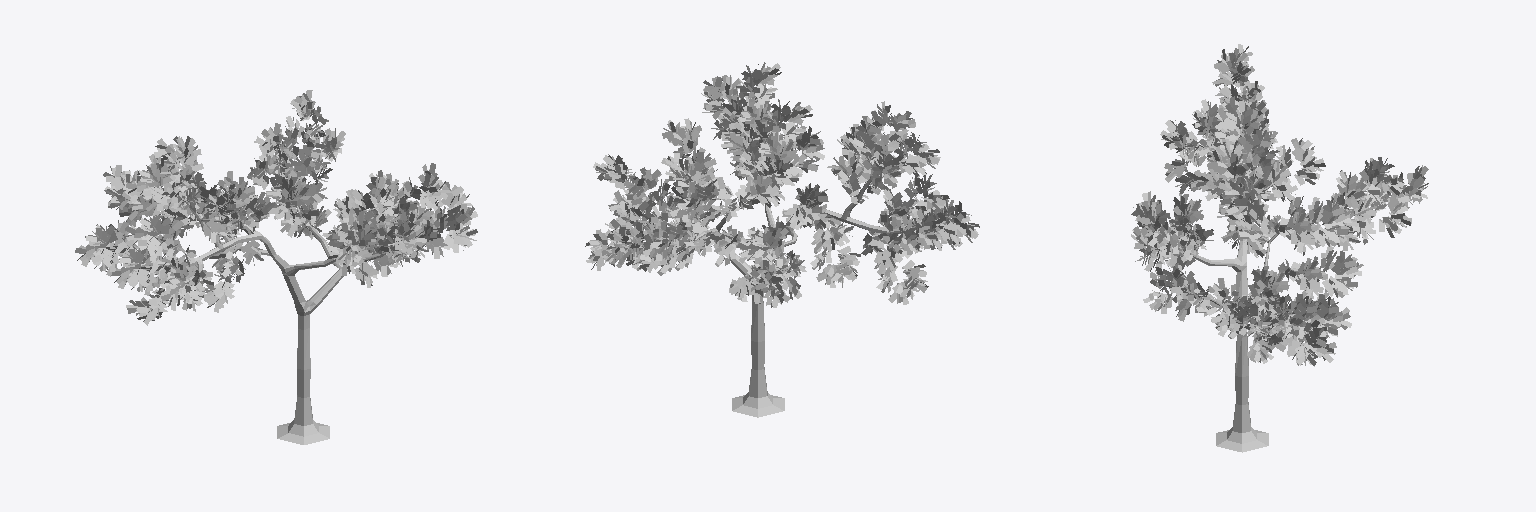
File: tree.obj
3 renders of one model, left to right at view 1: azimuth 30°, elevation 25°; view 2: azimuth 150°, elevation 25°; view 3: azimuth 270°, elevation 25°, orthographic.
Visible parts, largest first — view 1: tree2; view 2: tree2; view 3: tree2.
Boxes of the visible parts, <box> form: tree2: <box>75,90,477,444</box>; tree2: <box>585,62,979,417</box>; tree2: <box>1131,44,1428,452</box>.
Size of the model in its own units: 6.31 by 5.26 by 4.2.